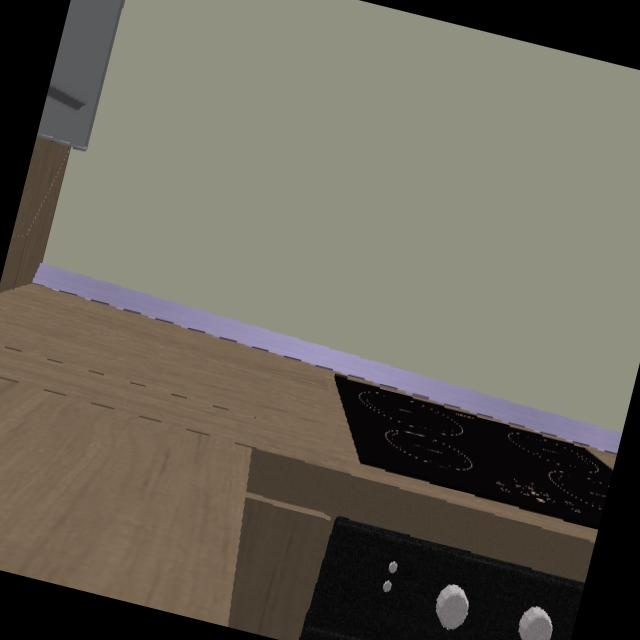countertop: (0, 284, 598, 626)
oven: (295, 515, 585, 640)
stove: (335, 376, 613, 529)
